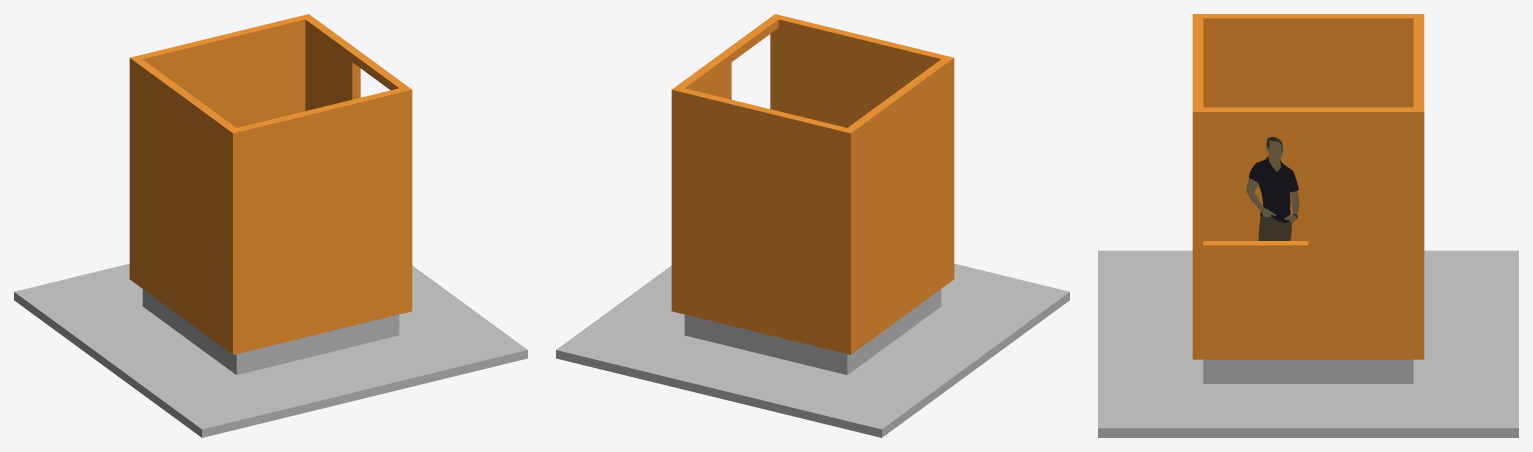
The picture shows the model from 3 angles, left to right: view 1: azimuth 30°, elevation 25°; view 2: azimuth 150°, elevation 25°; view 3: azimuth 270°, elevation 25°; orthographic projection. The views are drawn at different scales.
Visible parts, largest first — view 1: Diferencia, object 1, object 2; view 2: Diferencia, object 1, object 2; view 3: Diferencia, object 1, object 2, Chris.
Part boxes in pixels (<box>): Diferencia: <box>129,14,412,354</box>; object 1: <box>14,263,527,437</box>; object 2: <box>142,289,399,374</box>; Diferencia: <box>671,14,954,354</box>; object 1: <box>556,263,1069,437</box>; object 2: <box>684,289,941,374</box>; Diferencia: <box>1192,14,1424,359</box>; object 1: <box>1098,250,1518,437</box>; object 2: <box>1203,359,1413,383</box>; Chris: <box>1246,137,1299,240</box>.
Bounding box in the file's own units: 4 × 3 × 4.
